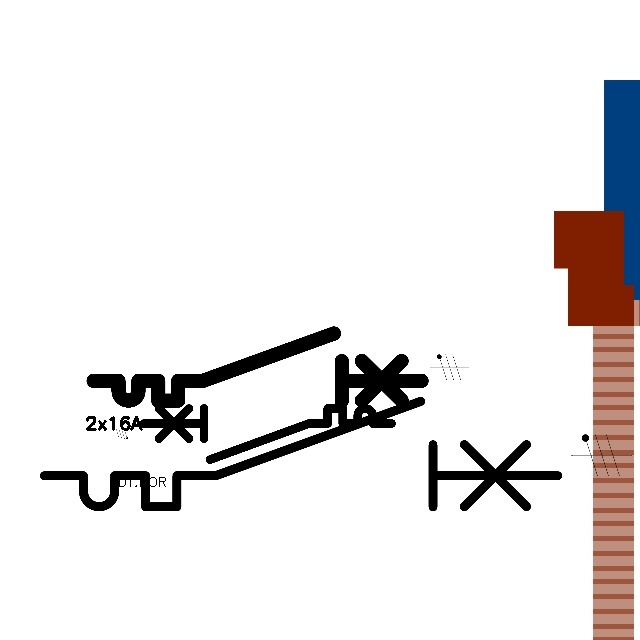interruptor_termomagnetico: (31, 388, 571, 520), (85, 325, 430, 409), (137, 402, 398, 466)
